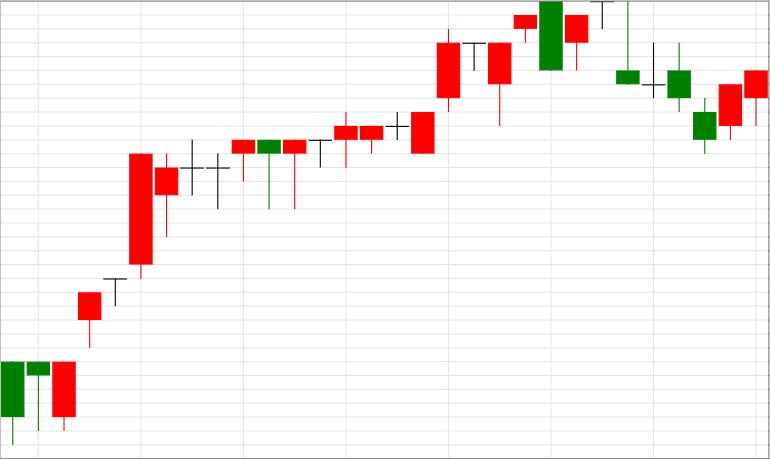bearish_engulfing_fall: (283, 1, 563, 209)
